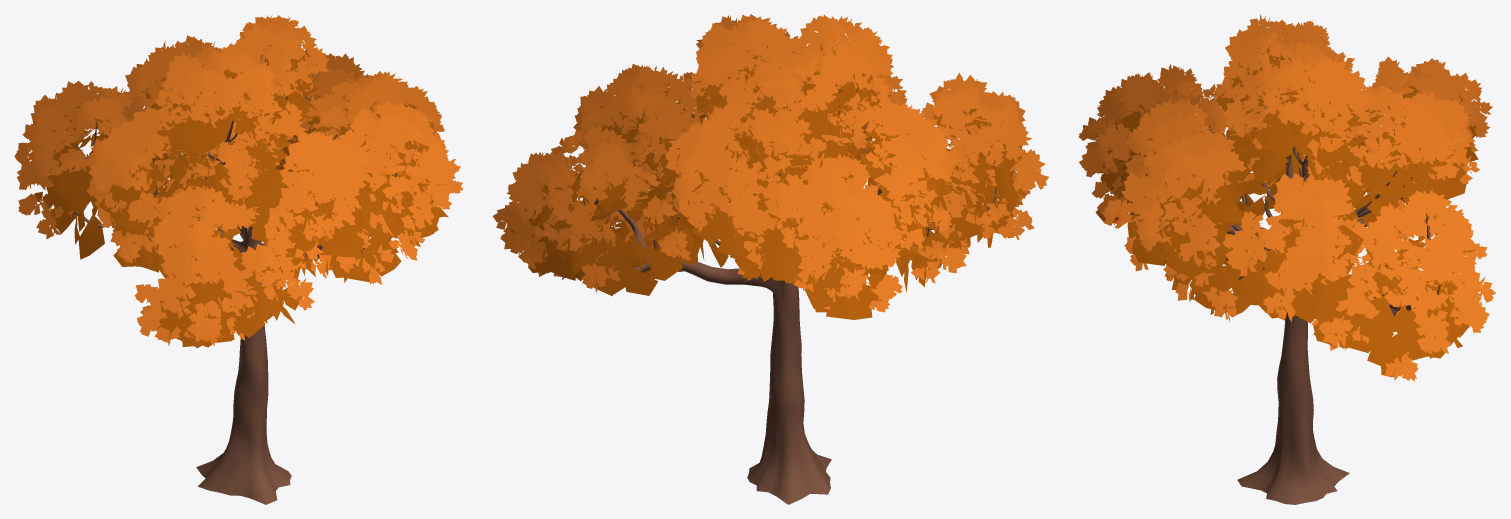
The model's file is tree_red.fbx.
The picture shows the model from 3 angles, left to right: view 1: azimuth 30°, elevation 25°; view 2: azimuth 150°, elevation 25°; view 3: azimuth 270°, elevation 25°; orthographic projection. The views are drawn at different scales.
Visible parts, largest first — view 1: tree_red; view 2: tree_red; view 3: tree_red.
Boxes of the visible parts, x1,y1,x2,y2 form: tree_red: (14, 15, 463, 504); tree_red: (493, 14, 1048, 504); tree_red: (1078, 14, 1495, 504).
Bounding box in the file's own units: 5.2 × 4.78 × 5.65.
